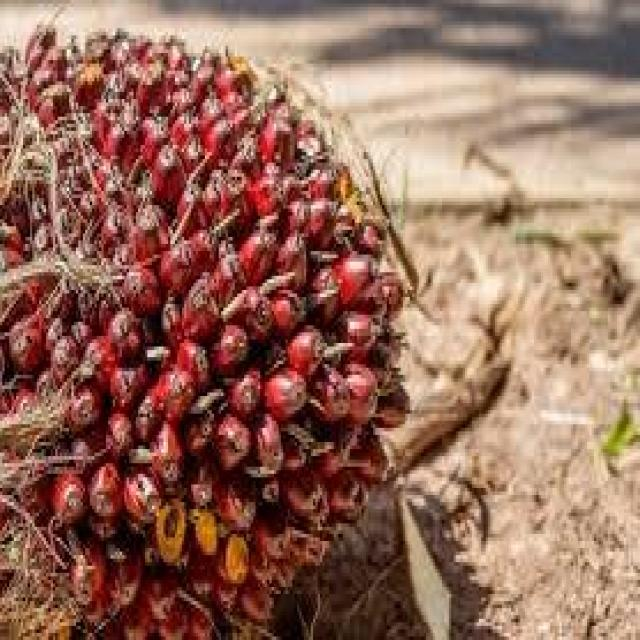Ripefruit: (1, 32, 406, 633)
